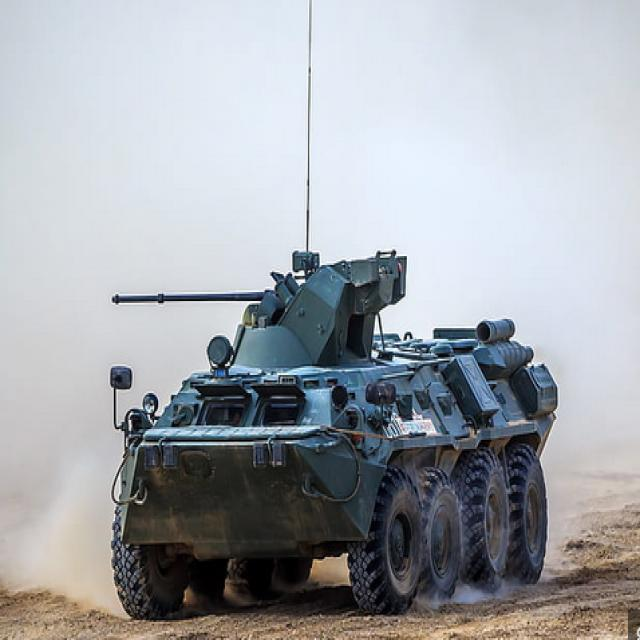MIL_APC: (102, 267, 620, 630)
